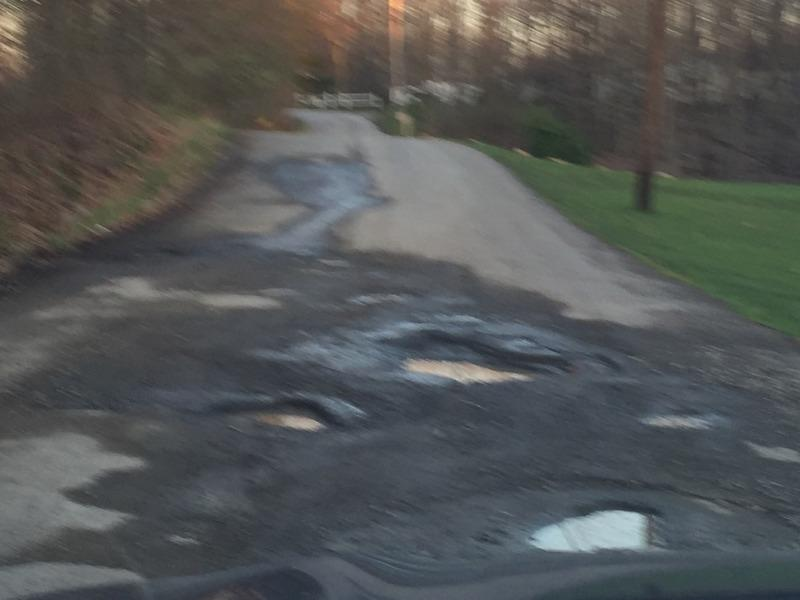potholes: (363, 336, 567, 408), (541, 498, 682, 568), (232, 389, 360, 440), (638, 400, 734, 440), (82, 242, 198, 262)
